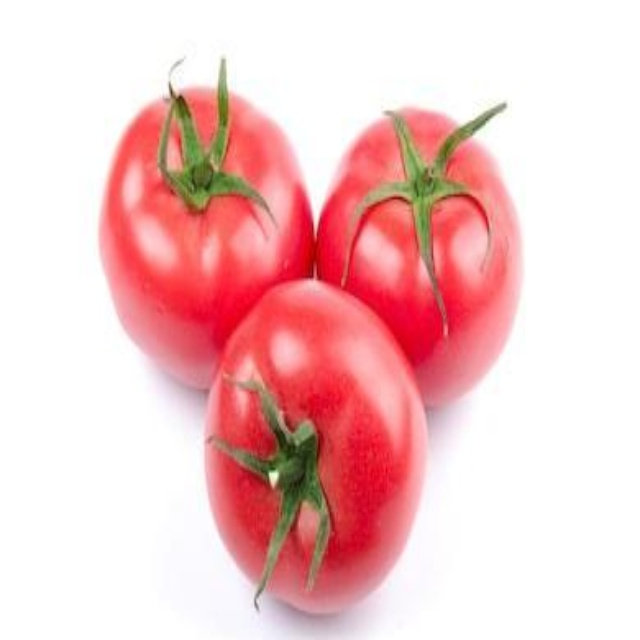tomato: (212, 274, 424, 613), (93, 92, 310, 389), (320, 105, 532, 404)
